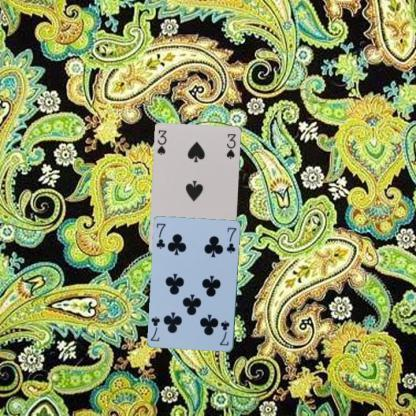3s: (155, 128, 167, 156)
7c: (217, 318, 231, 347), (154, 221, 166, 250)
